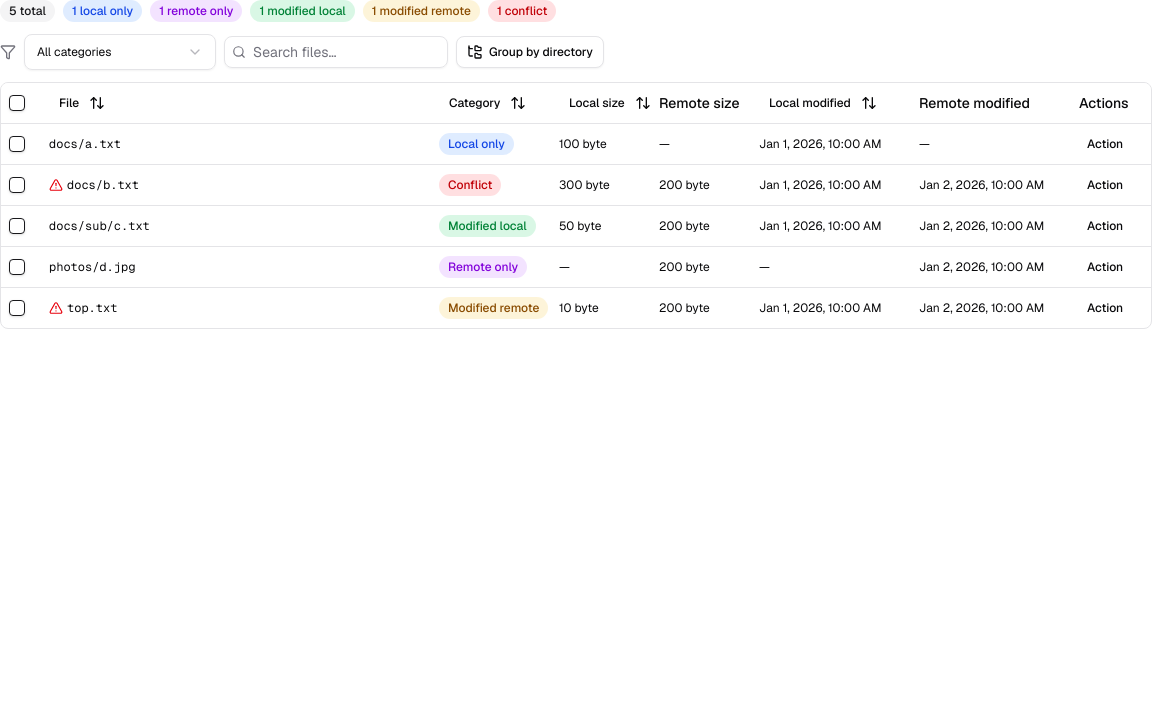
Test: FileBrowser batch actions › select all, then a batch push skips what it cannot push and queues the conflicts
Click the checkbox named "Select all files": (17, 103) [9,95,25,111]
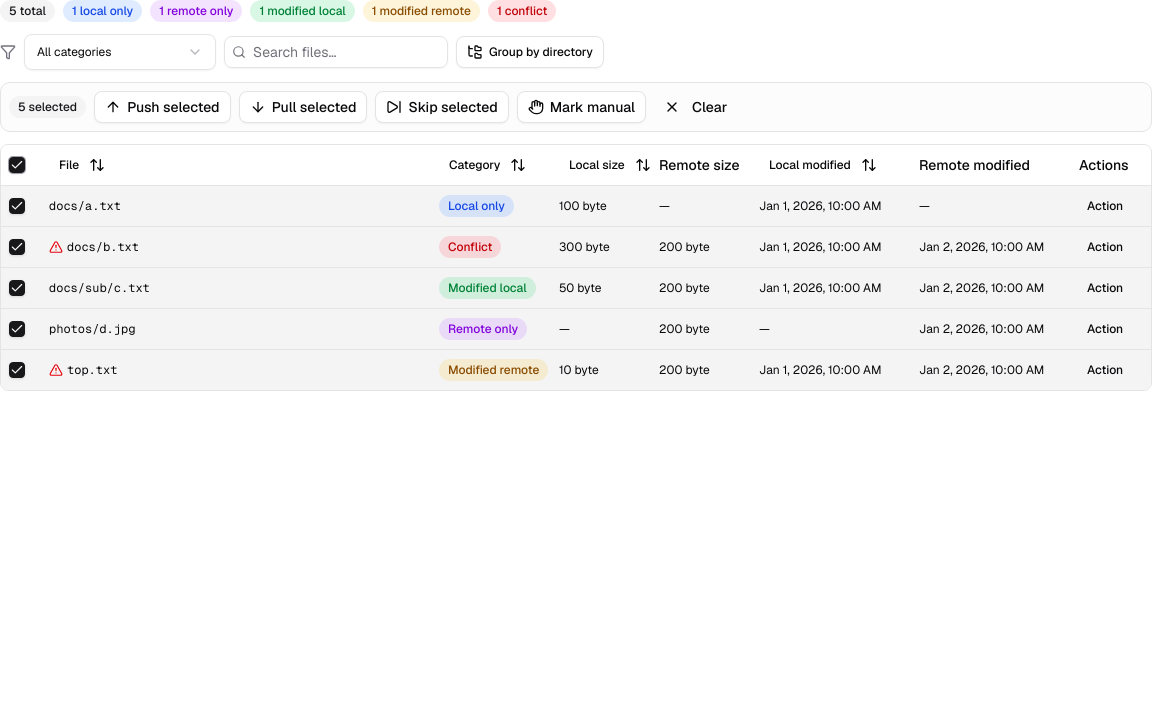
Expected: the text "5 selected" is shown, [9,96,86,118]
Click the button "Push selected": (162, 107) [94,91,231,123]
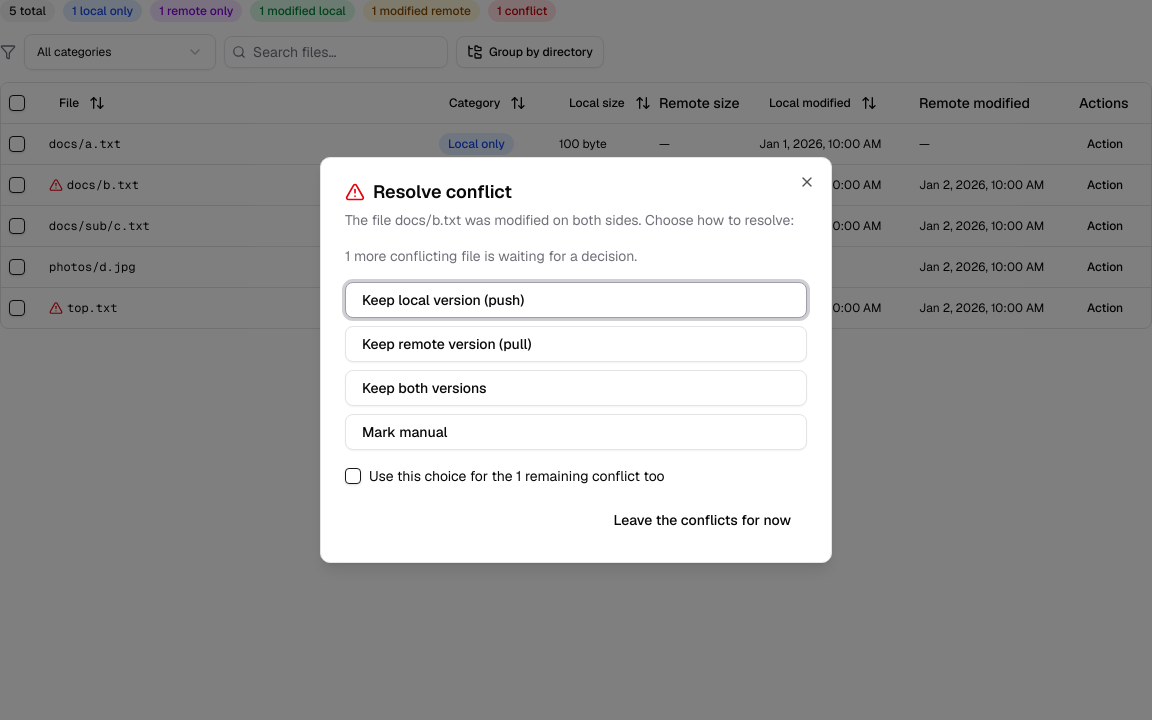
Expected: the dialog shows "1 more conflicting file is waiting for a decision.", [345,247,637,265]
Click the checkbox: (353, 476) [345,468,361,484]
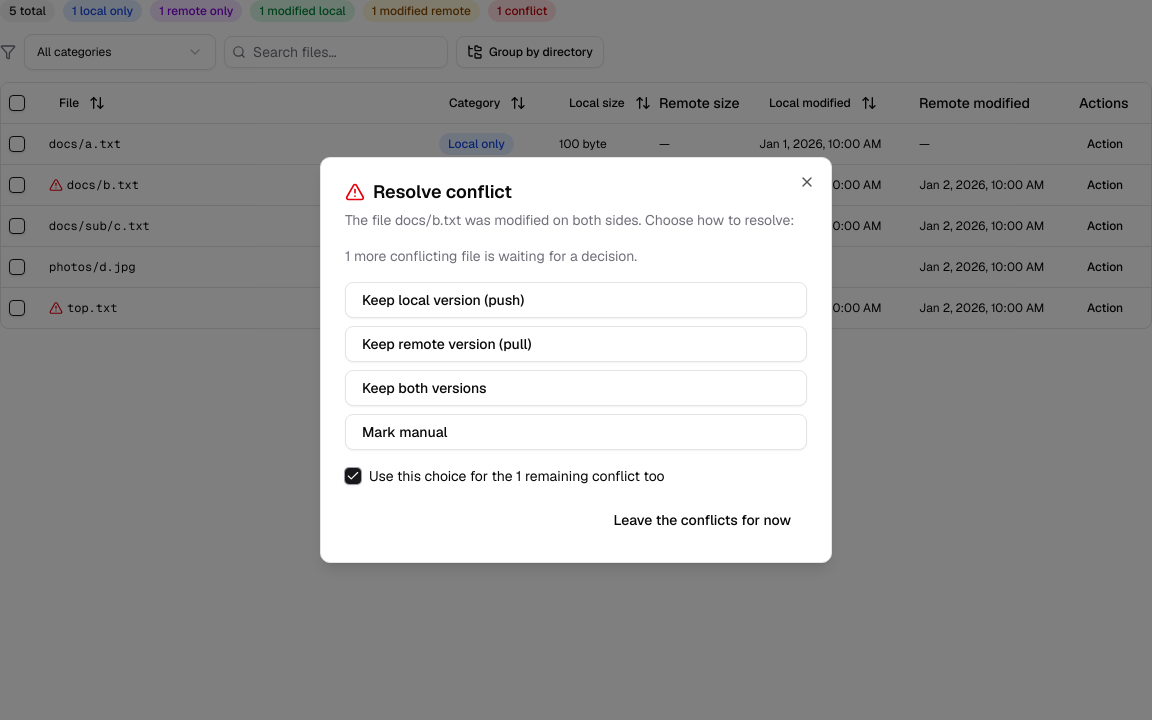
Click the button "Keep local version (push)": (443, 300) [345,282,807,318]
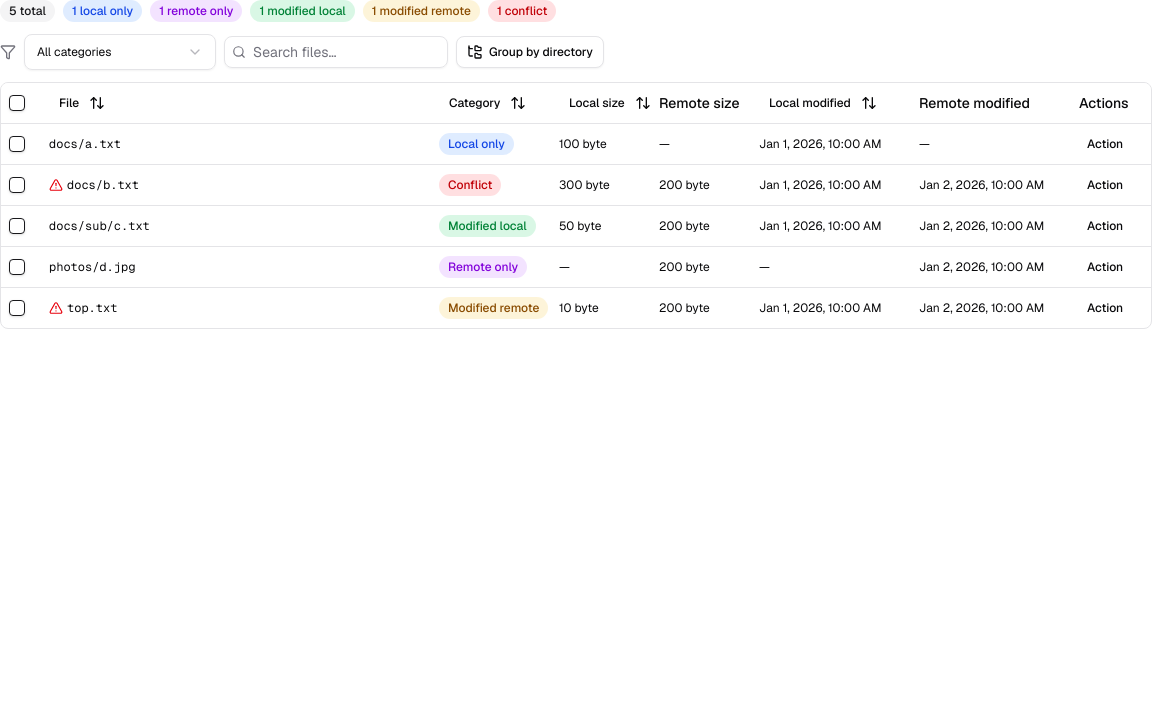
Expected: the text "selected" is not shown
Expected: the dialog is gone
